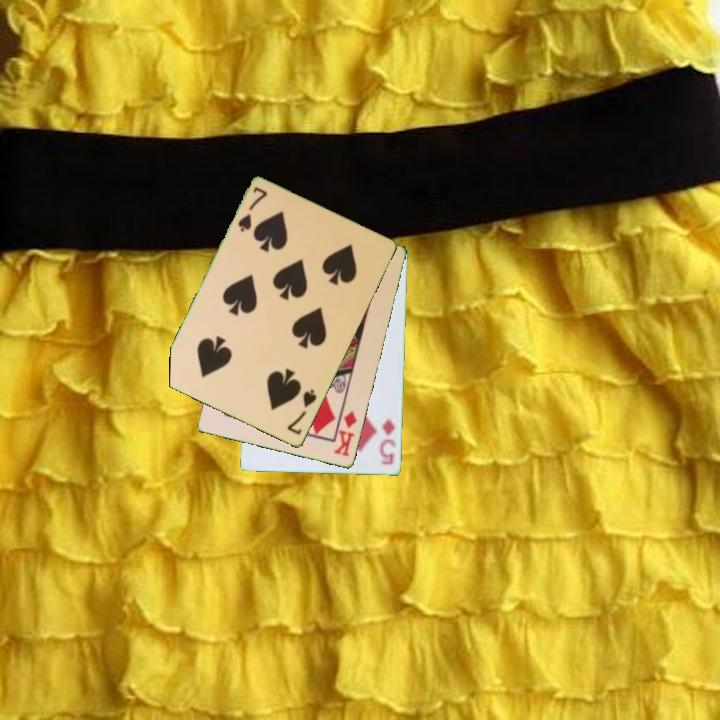5d: (377, 416, 399, 468)
7s: (284, 386, 320, 438), (234, 183, 270, 235)
Kd: (330, 408, 360, 460)
